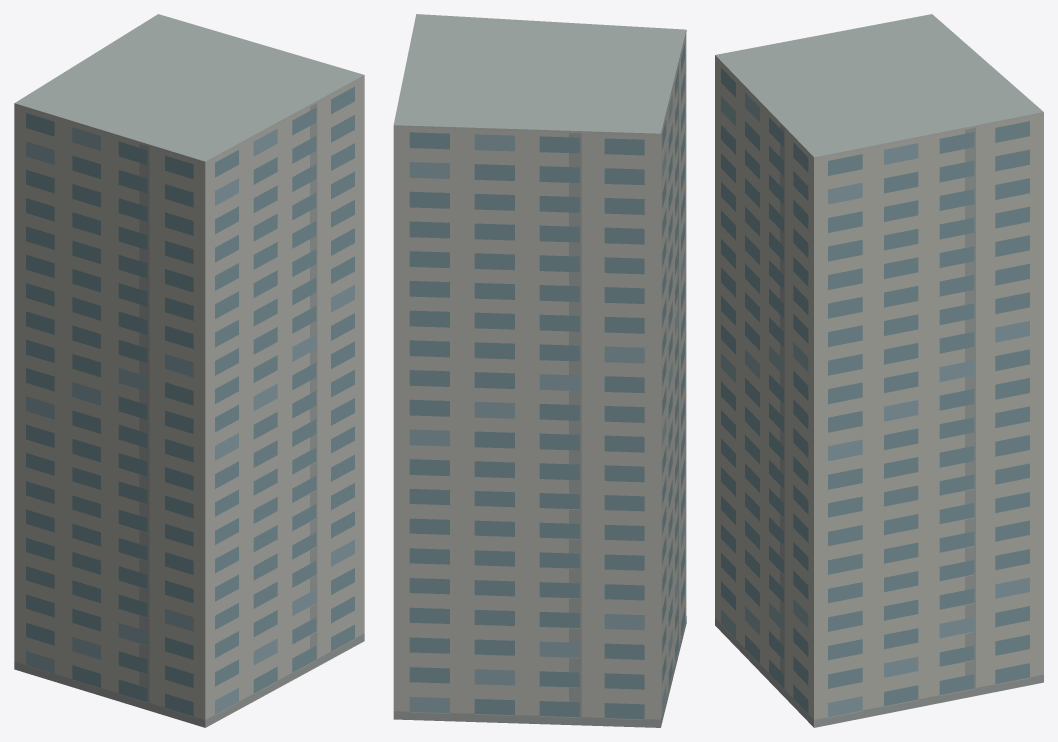
File: residential-921142e4-c9f0-4702-84cf-3763562648c6.glb
The picture shows the model from 3 angles, left to right: view 1: azimuth 30°, elevation 25°; view 2: azimuth 150°, elevation 25°; view 3: azimuth 270°, elevation 25°; orthographic projection. The views are drawn at different scales.
Visible parts, largest first — view 1: residential-921142e4-c9f0-4702-84cf-3763562648c6.tmp; view 2: residential-921142e4-c9f0-4702-84cf-3763562648c6.tmp; view 3: residential-921142e4-c9f0-4702-84cf-3763562648c6.tmp.
Part boxes in pixels (bbox=[...]): residential-921142e4-c9f0-4702-84cf-3763562648c6.tmp: bbox=[14, 14, 364, 727]; residential-921142e4-c9f0-4702-84cf-3763562648c6.tmp: bbox=[393, 14, 686, 727]; residential-921142e4-c9f0-4702-84cf-3763562648c6.tmp: bbox=[715, 14, 1043, 727].
Size of the model in its own units: 33.42 by 62 by 32.38.
